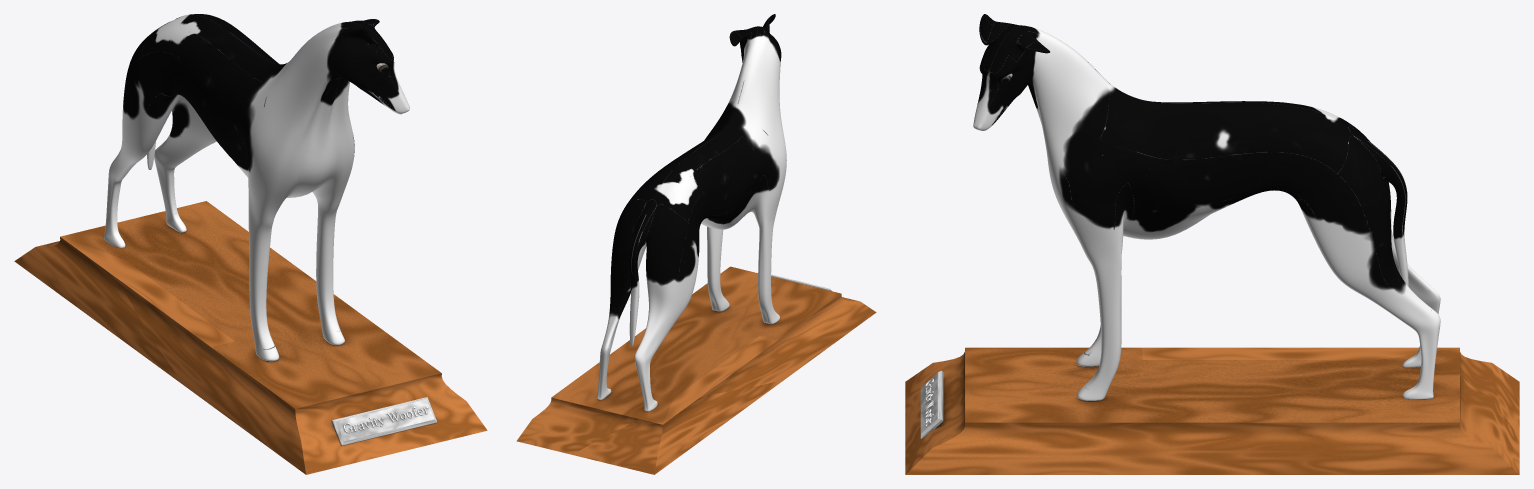
File: Gravity Woofer.fbx
3 views of the same model, side by side, from view 1: azimuth 30°, elevation 25°; view 2: azimuth 150°, elevation 25°; view 3: azimuth 270°, elevation 25° (orthographic). The views are drawn at different scales.
Parts seen in each view (by area): view 1: Cube, Gazelle_Cube.002, Cube.001; view 2: Cube, Gazelle_Cube.002; view 3: Cube, Gazelle_Cube.002, Cube.001.
Part boxes in pixels (x1,y1,x2,y2): Cube: (14,201,487,474); Gazelle_Cube.002: (104,14,409,361); Cube.001: (331,397,437,445); Cube: (516,266,876,474); Gazelle_Cube.002: (596,14,786,411); Cube: (905,347,1519,474); Gazelle_Cube.002: (973,14,1440,400); Cube.001: (920,371,943,438).
Bounding box in the file's own units: 69.45 × 145 × 193.
